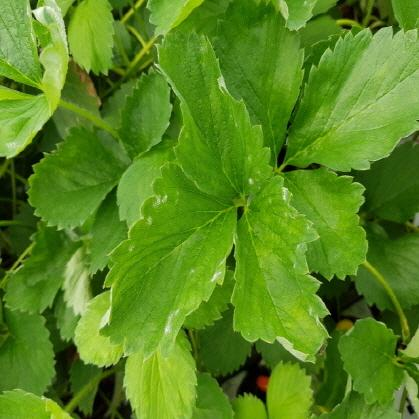Powdery Mildew Leaf: (95, 159, 237, 364), (153, 27, 274, 205), (228, 174, 333, 363), (0, 0, 67, 160)
